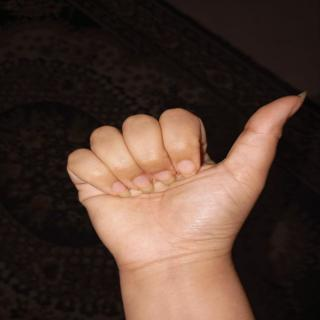DAD: (62, 80, 303, 292)
